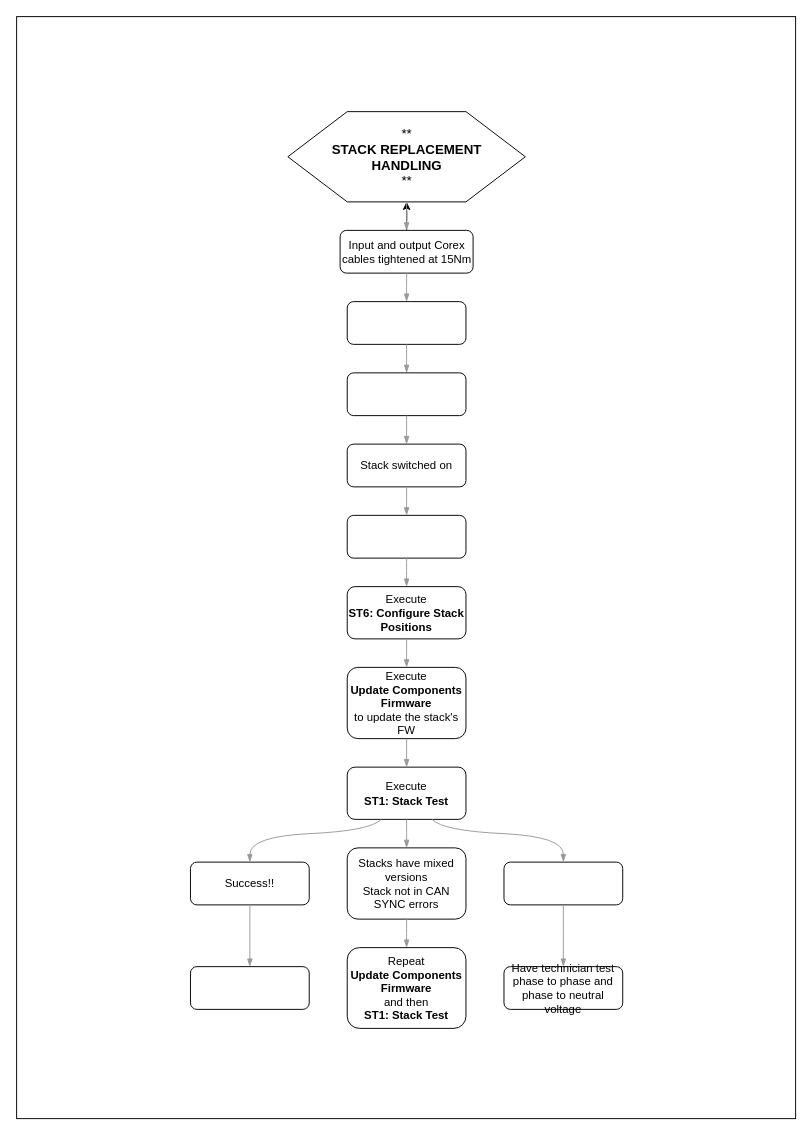
The diagram is 812 pixels wide and 1135 high, and some of its shapes have lost their labels. The centre of each missing label's shape, as x and y in pixels:
GOOD!!: point 249,987
Red marker applied to stack power connection bolts: point 406,322
Register new Stack's SN on lifecycle: point 406,536
Test reports grid voltage issues: point 563,883
Transparent protective covers restored: point 406,394
